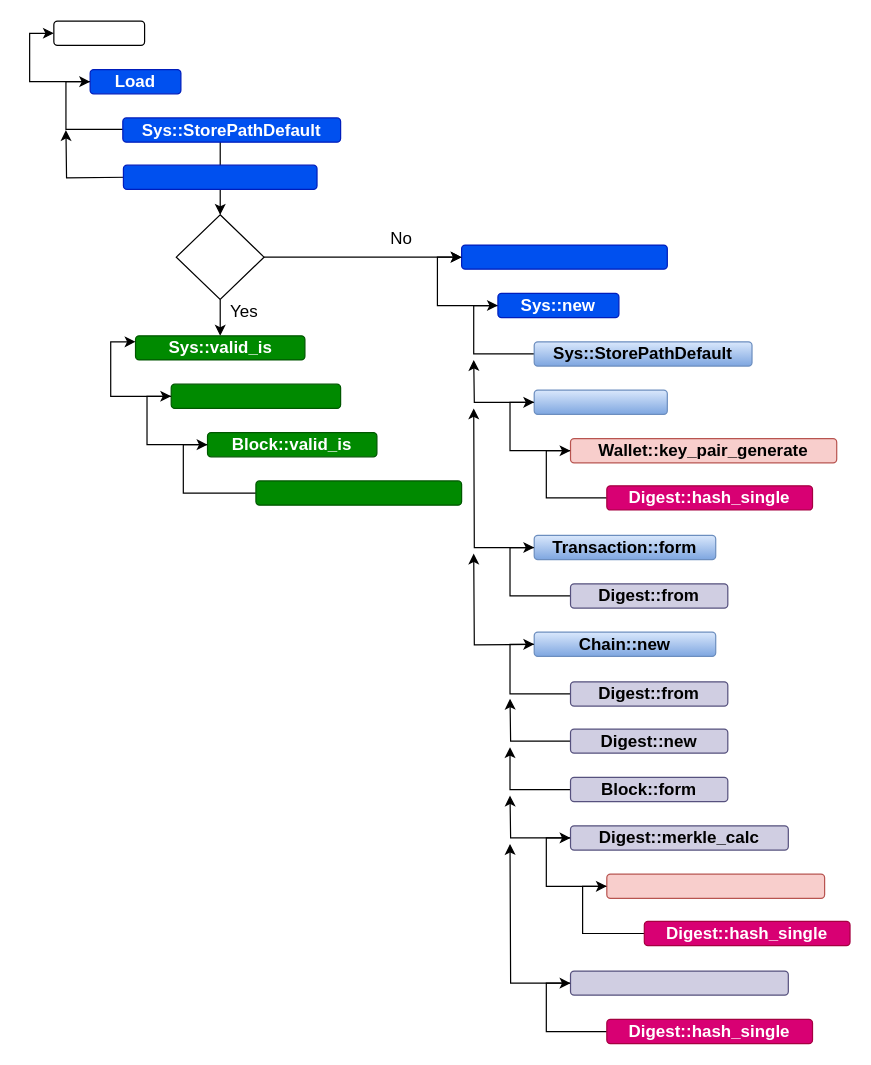
Some shapes in this 871 by 1065 pixel diagram are drawn without their labels. The centre of each missing label's shape, as x and y in pixels:
Block::proof_of_work: [678,982]
Chain::valid_is: [255,395]
Digest::hash_every: [715,885]
main: [99,32]
succes: [219,256]
Sys::LoadFromFile: [219,176]
Sys::MakePersistant: [563,256]
Transaction::valid_is: [358,492]
Wallet::new: [600,401]
